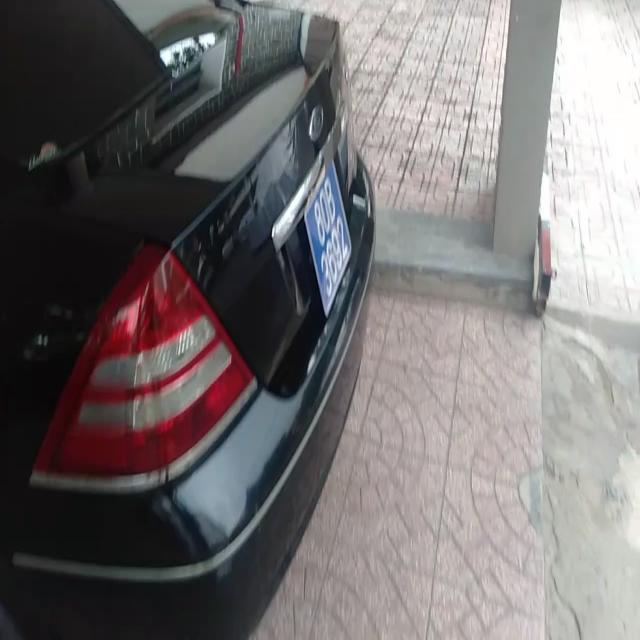bien_xanh: (292, 161, 359, 319)
